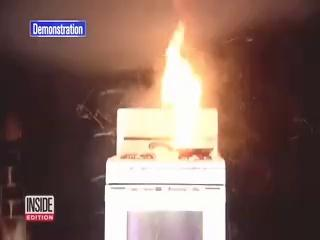Fire: (155, 1, 211, 155)
